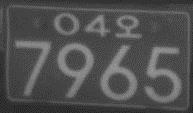0: (53, 10, 80, 36)
4: (85, 13, 110, 38)
5: (144, 45, 183, 104)
6: (99, 42, 138, 102)
7: (14, 38, 52, 96)
9: (56, 41, 94, 98)
오: (114, 13, 142, 38)
